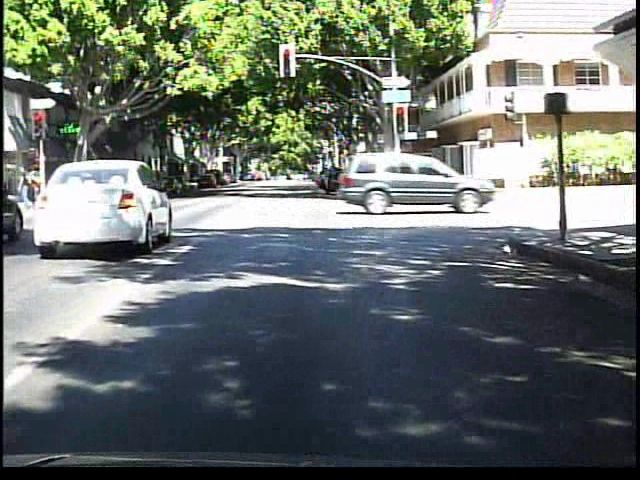person: (18, 161, 47, 204)
